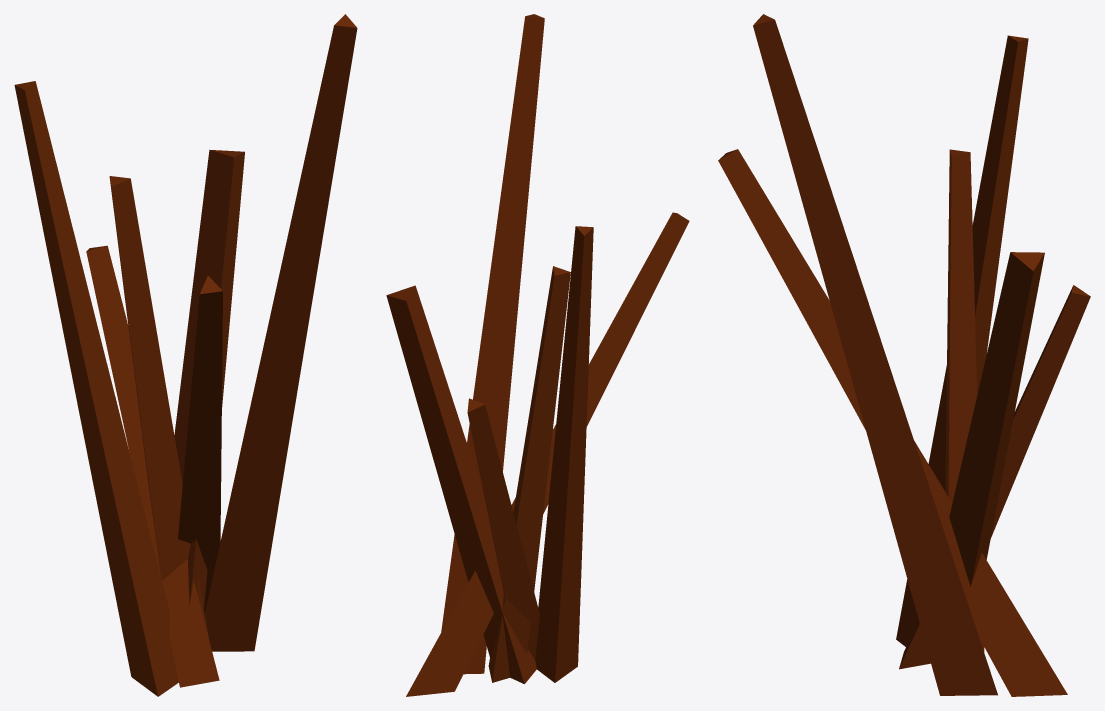
The model's file is Grass2.fbx.
3 views of the same model, side by side, from view 1: azimuth 30°, elevation 25°; view 2: azimuth 150°, elevation 25°; view 3: azimuth 270°, elevation 25° (orthographic). The views are drawn at different scales.
Visible parts, largest first — view 1: pCylinder10; view 2: pCylinder10; view 3: pCylinder10.
Part boxes in pixels (x1,y1,x2,y2): pCylinder10: (14, 14, 357, 696); pCylinder10: (386, 14, 689, 696); pCylinder10: (718, 14, 1090, 696).
Bounding box in the file's own units: 331 × 944 × 469.
